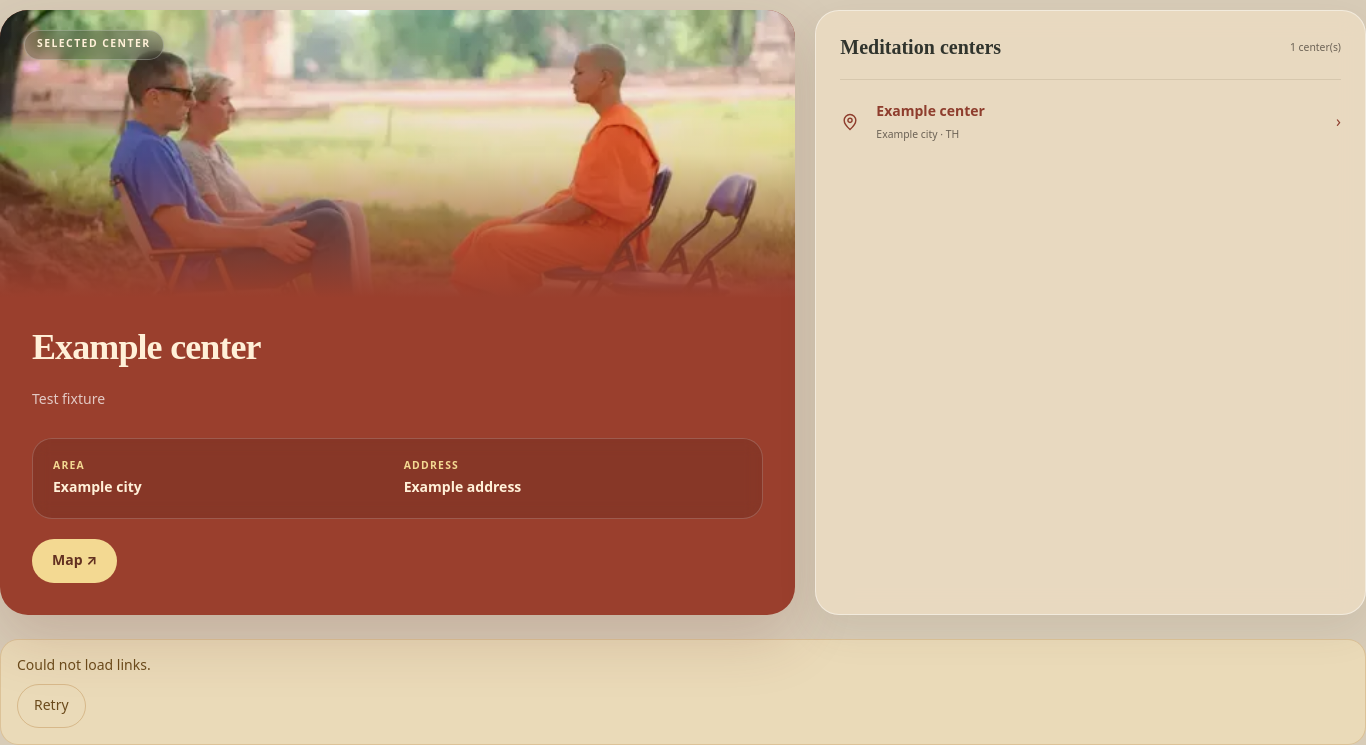
Test case: Q&A and centers › keeps center details when Bio Links fail and omits unsafe contact URLs
(page scrolled)
Check: the heading "Example center" is shown, box x1=32 y1=321 x2=261 y2=378
Check: the message shows "Could not load links", box x1=17 y1=655 x2=151 y2=676
Click the button "Retry". click: (51, 706)
box: x1=17 y1=684 x2=86 y2=728
(page scrolled)
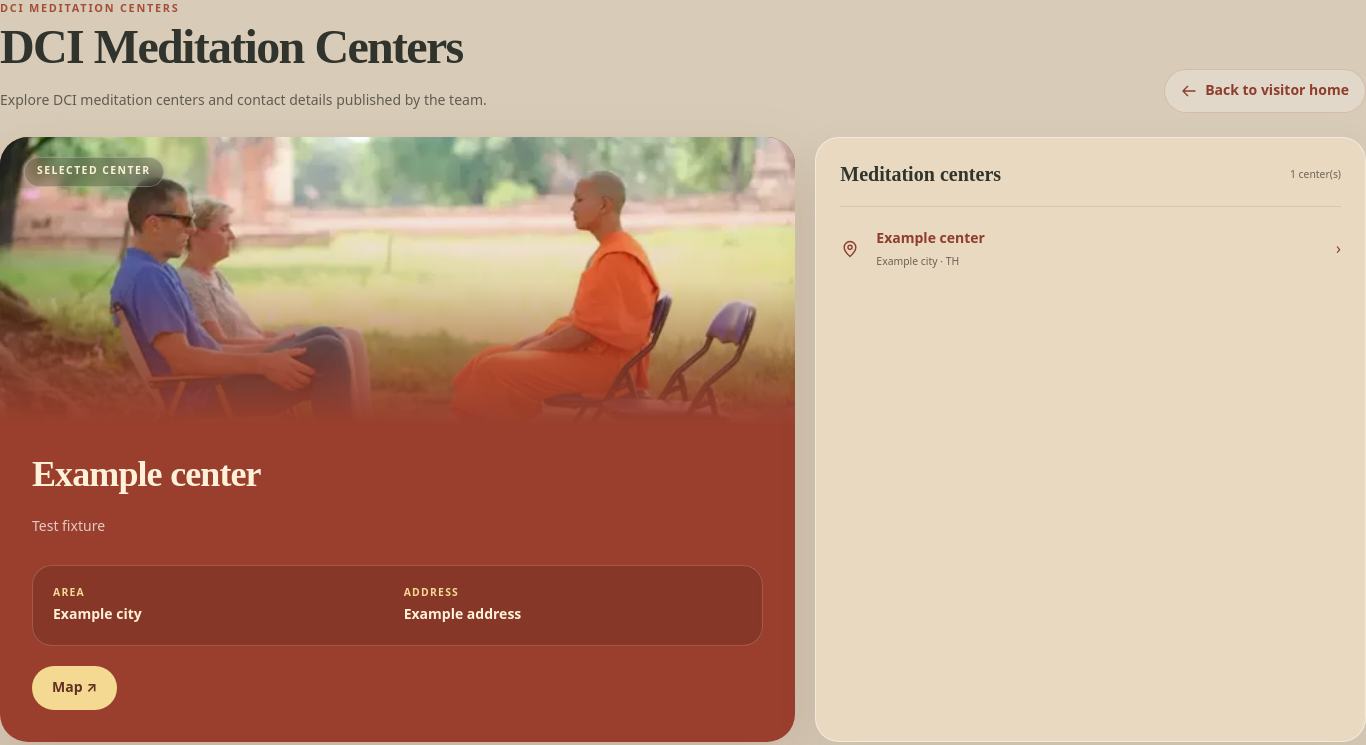
Check: the message "Could not load links. Retry" is gone
